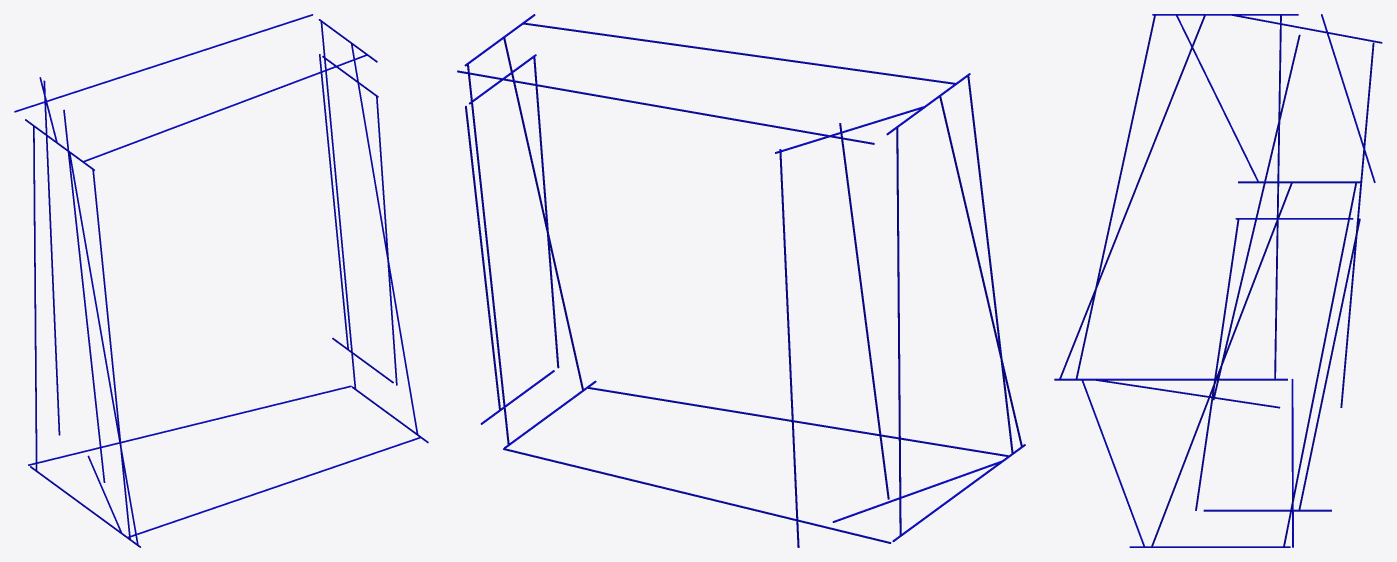
File: corrected_3d_strokes.glb
The picture shows the model from 3 angles, left to right: view 1: azimuth 30°, elevation 25°; view 2: azimuth 150°, elevation 25°; view 3: azimuth 270°, elevation 25°; orthographic projection. The views are drawn at different scales.
Visible parts, largest first — view 1: world; view 2: world; view 3: world.
Part boxes in pixels (x1,y1,x2,y2): world: (14, 14, 428, 547); world: (457, 14, 1025, 547); world: (1054, 14, 1382, 547).
Bounding box in the file's own units: 8.51 × 8.64 × 7.01.
